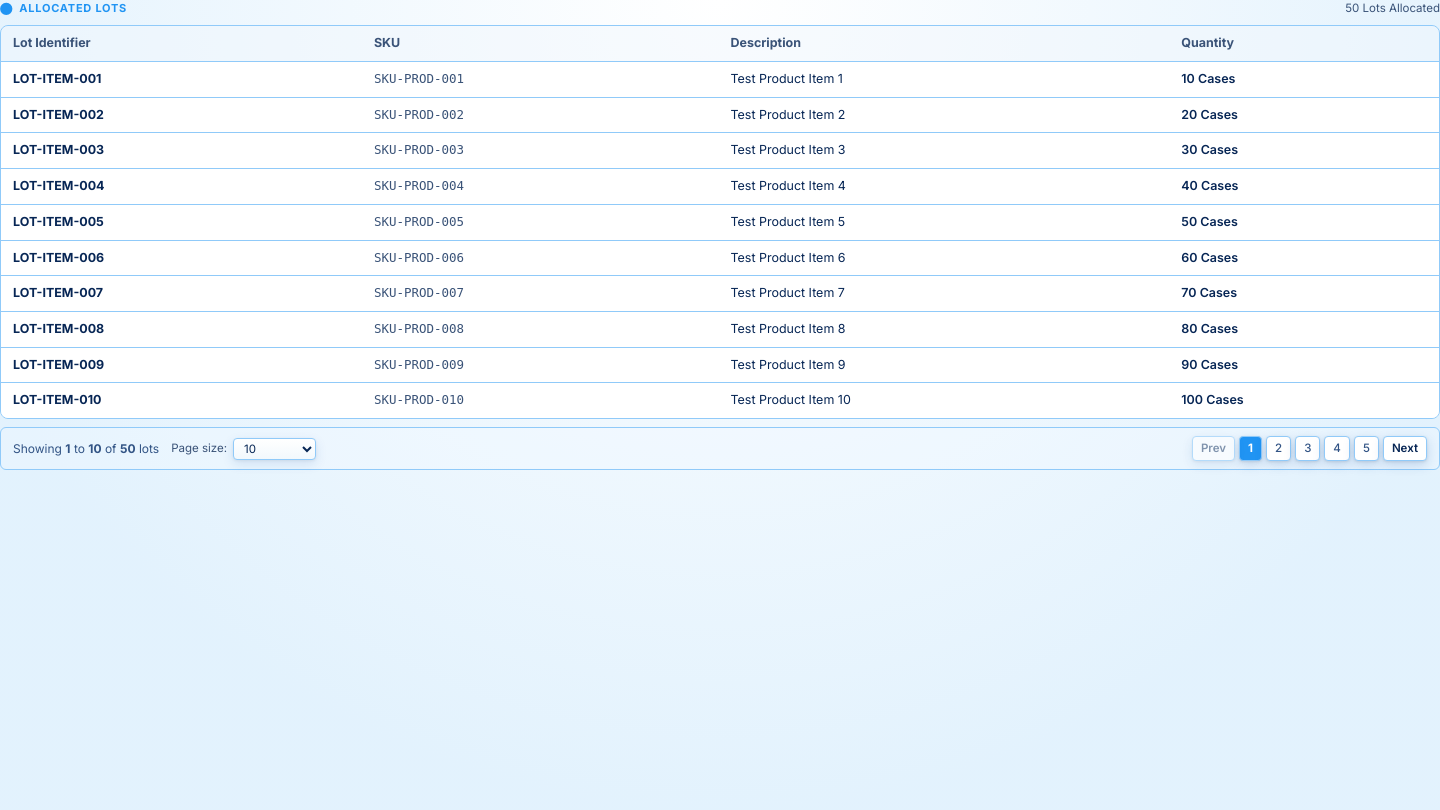
it: Stage Audit -> ALLOCATED LOTS Pagination and Page Size (Max 30) › StageAllocatedLotsSection Isolated Component Tests › changes page size and clamps to max 30
Change page size to 5
Step 1. Select "5" in the dropdown with test id "stage-allocated-lots-page-size-select" → (275, 449), box x1=233 y1=438 x2=316 y2=460
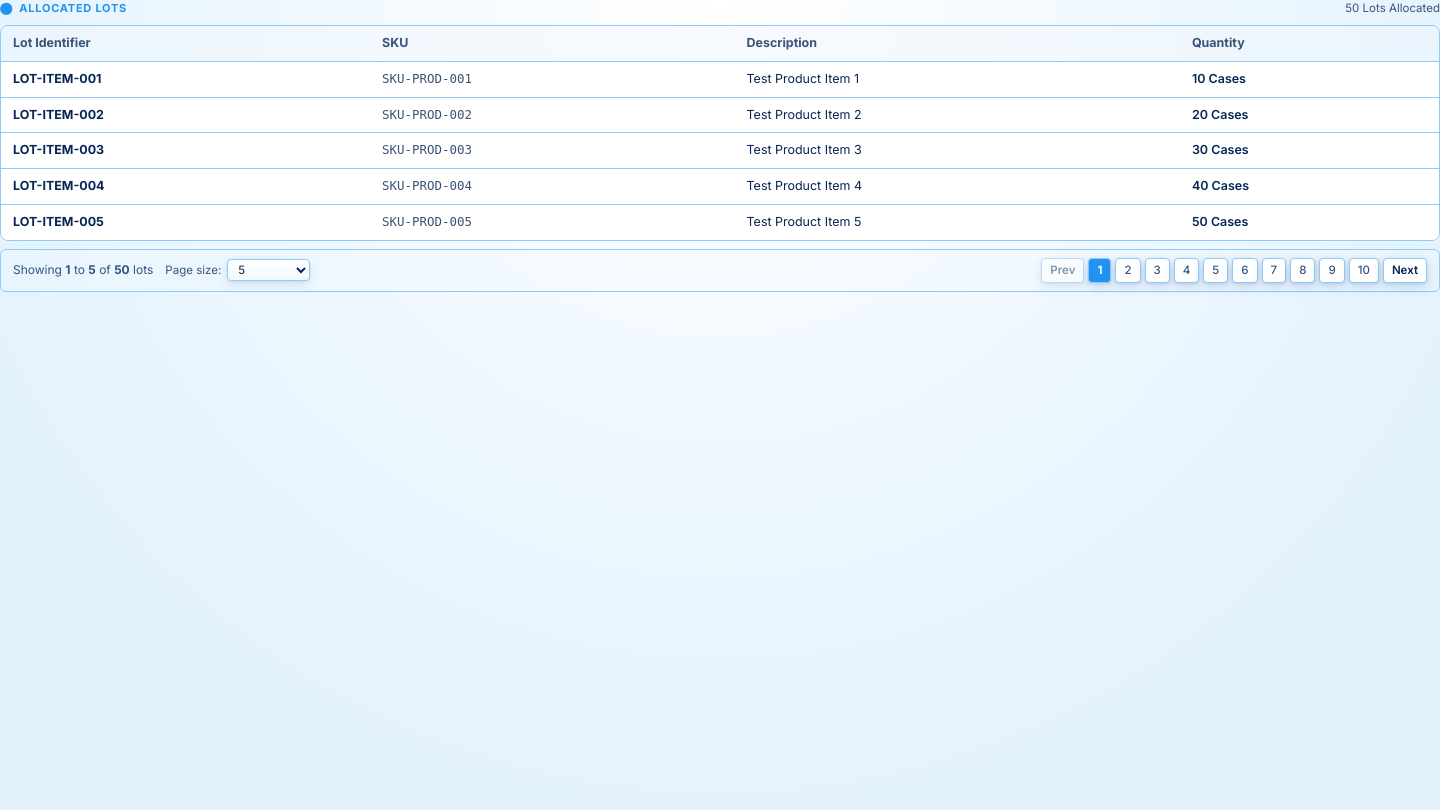
Expected: the button with test id "stage-allocated-lots-page-btn-10" is shown, x1=1349 y1=258 x2=1379 y2=283
Expected: the number of rows with test id "stage-allocated-lot-row" is 5, x1=1 y1=62 x2=1439 y2=97; x1=1 y1=97 x2=1439 y2=133; x1=1 y1=133 x2=1439 y2=169; x1=1 y1=169 x2=1439 y2=204; x1=1 y1=204 x2=1439 y2=240
Expected: the element with test id "stage-allocated-lots-page-info" reads "Showing 1 to 5 of 50 lots", x1=13 y1=261 x2=153 y2=279
Change page size to 30 (max)
Step 2. Select "30 (max)" in the dropdown with test id "stage-allocated-lots-page-size-select" → (269, 270), box x1=227 y1=259 x2=310 y2=281
(page scrolled)
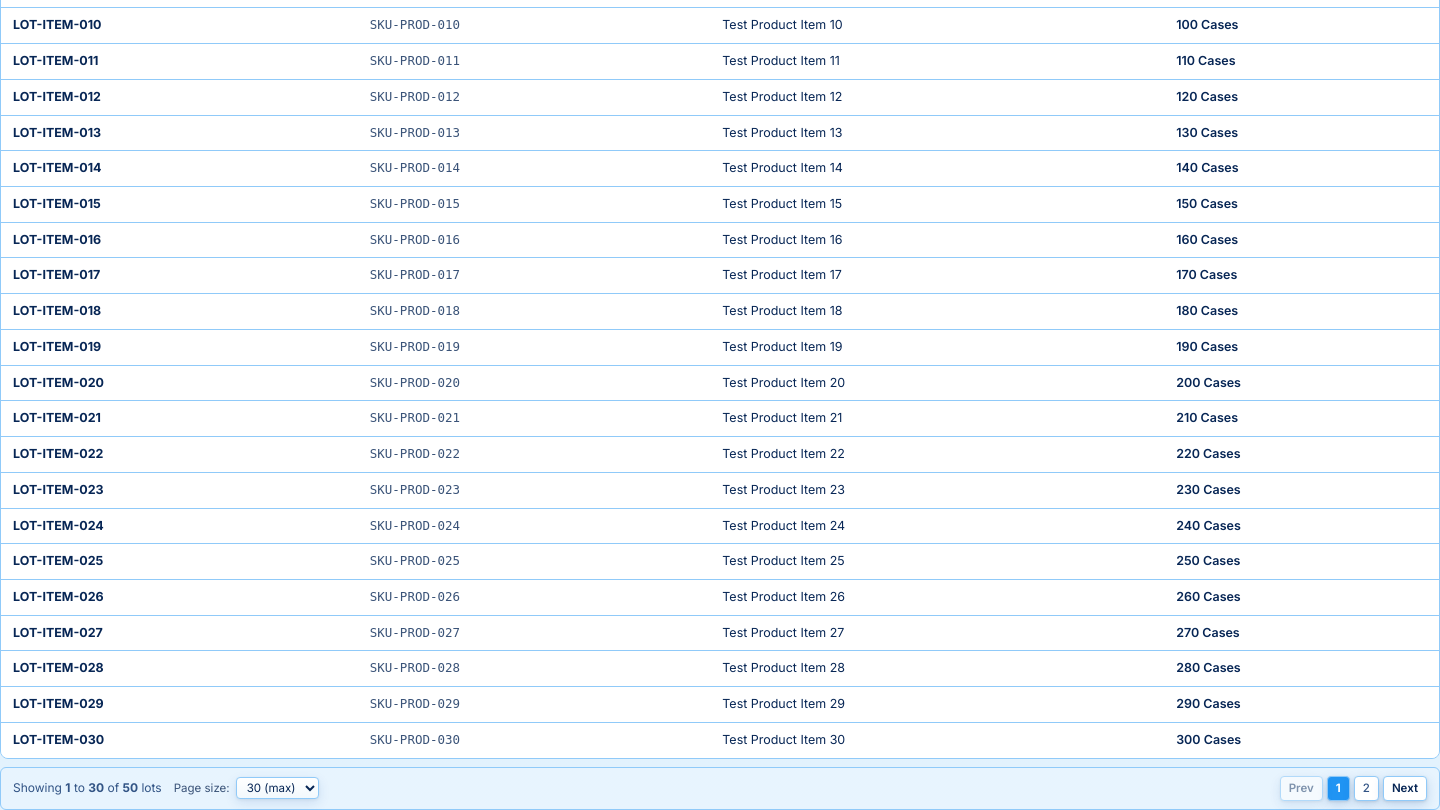
Expected: the button with test id "stage-allocated-lots-page-btn-1" is shown, x1=1327 y1=776 x2=1350 y2=801
Expected: the element with test id "stage-allocated-lots-page-info" reads "Showing 1 to 30 of 50 lots", x1=13 y1=779 x2=162 y2=797
Expected: the button with test id "stage-allocated-lots-page-btn-3" is gone
Step 3. Click the button with test id "stage-allocated-lots-page-btn-2" → (1366, 788), box x1=1354 y1=776 x2=1379 y2=801
(page scrolled)
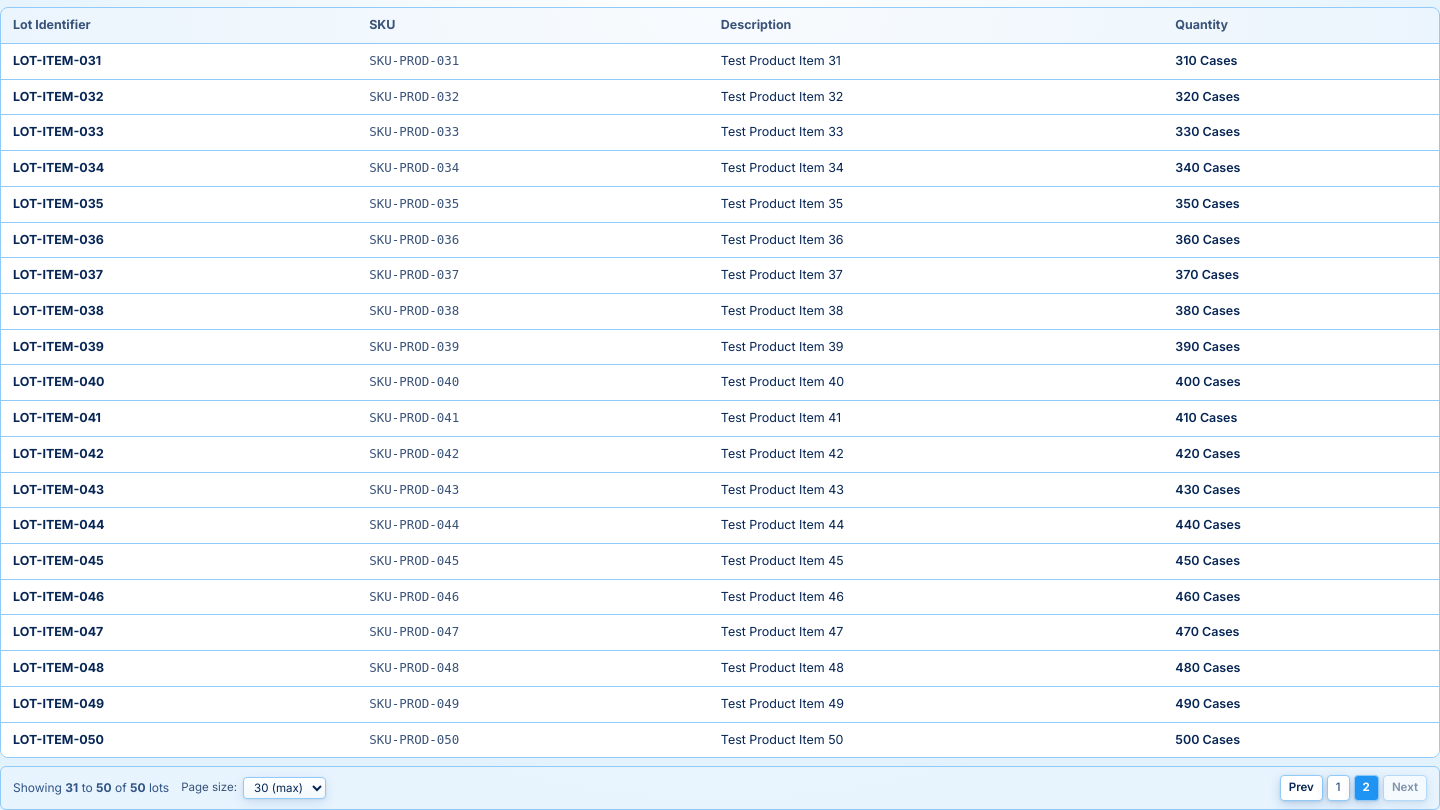
Expected: the number of rows with test id "stage-allocated-lot-row" is 20
Expected: the element with test id "stage-allocated-lots-page-info" reads "Showing 31 to 50 of 50 lots", x1=13 y1=779 x2=169 y2=797
